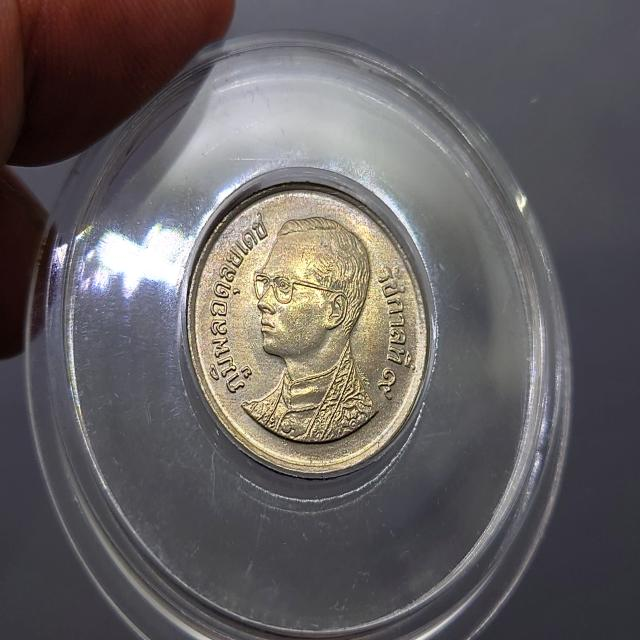1 Bath: (183, 168, 440, 494)
